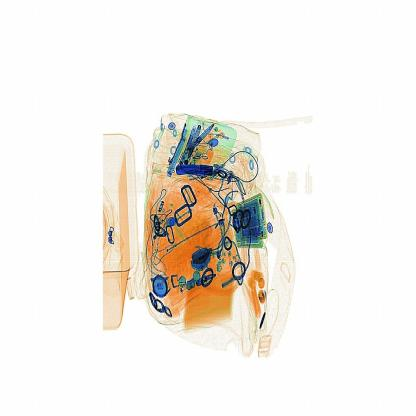knife: (171, 152, 222, 184)
